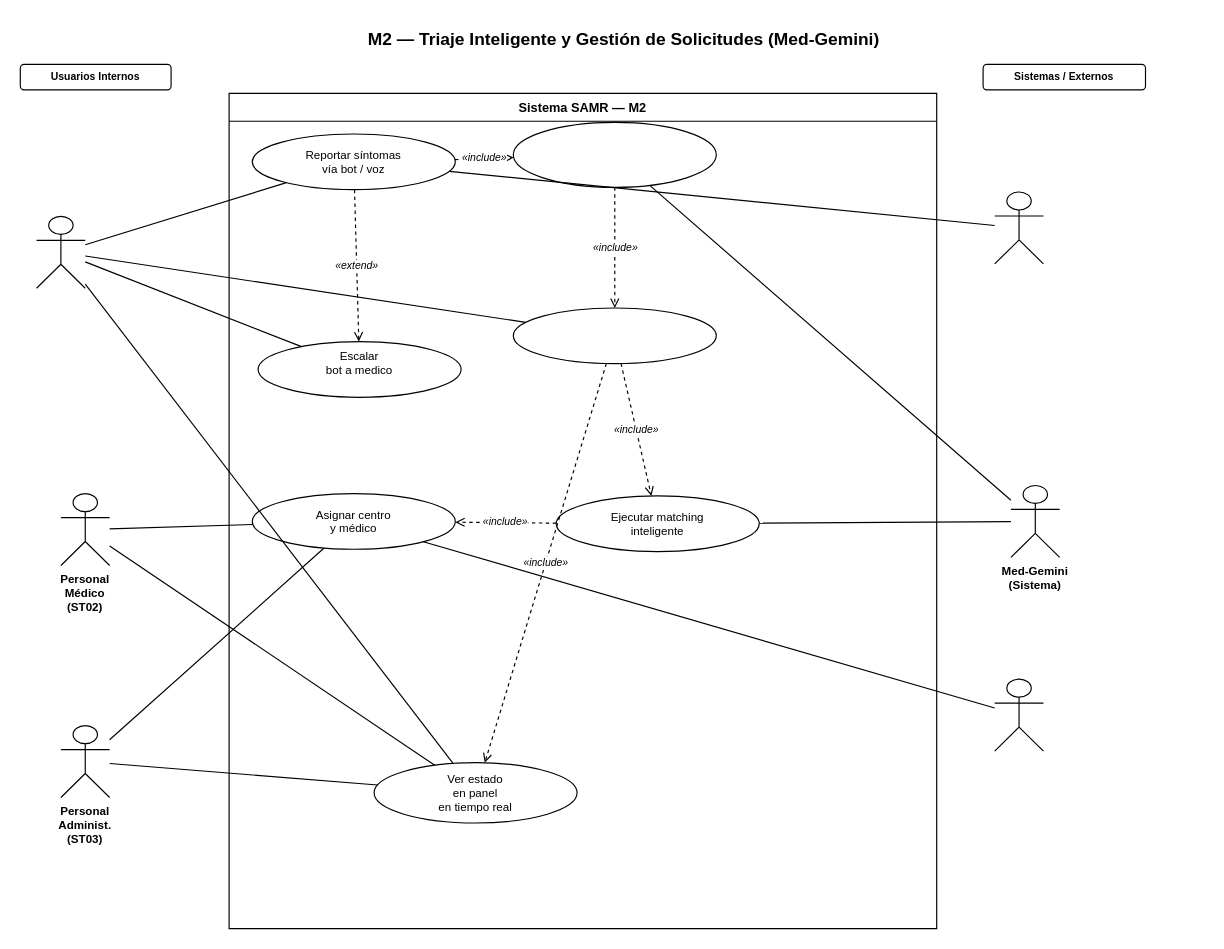
Image size: 1224x949. Some labels were removed from this diagram. The centre of each missing label's shape, as x and y in pixels:
"Bot / Voicebot (Sistema)" goes at point (1018, 227).
"Centro Asistencia (ST04)" goes at point (1018, 714).
"Clasificar riesgo con Med-Gemini + XAI" goes at point (614, 154).
"Generar solicitud asíncrona" goes at point (614, 335).
"Paciente (ST01)" goes at point (60, 251).
